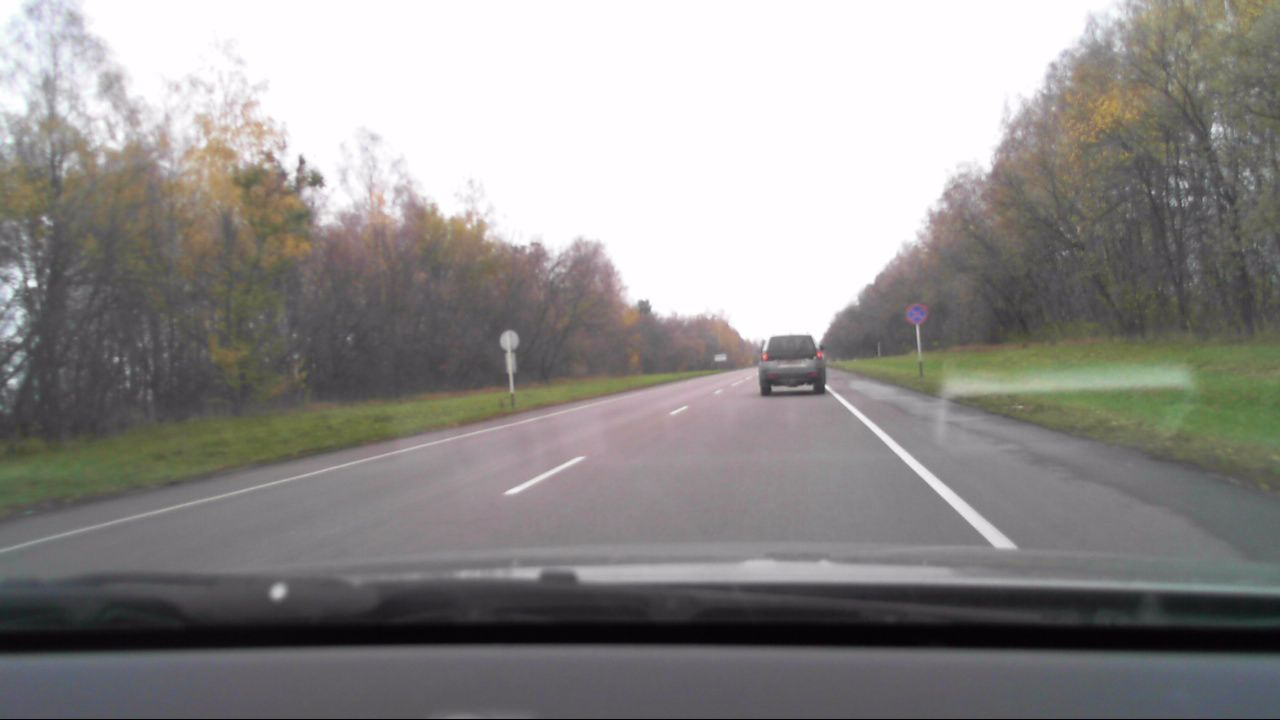No Parking: (904, 300, 932, 325)
